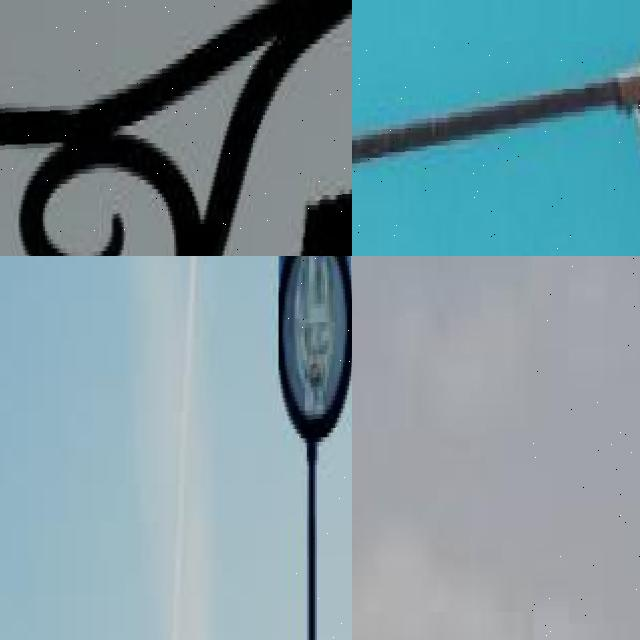street light: (0, 0, 352, 256), (352, 41, 640, 256), (532, 256, 640, 640), (278, 256, 352, 640)
